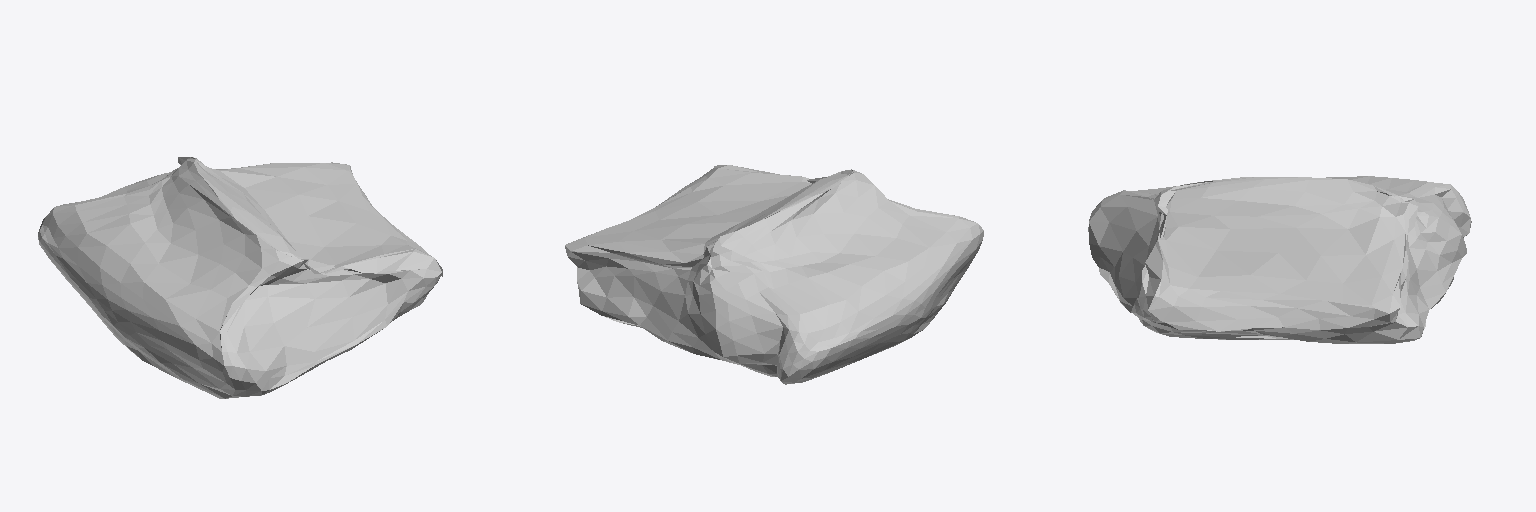
Rendered from video3_183.obj.
3 renders of one model, left to right at view 1: azimuth 30°, elevation 25°; view 2: azimuth 150°, elevation 25°; view 3: azimuth 270°, elevation 25°, orthographic.
Bounding box in the file's own units: 0.897 × 0.3743 × 1.